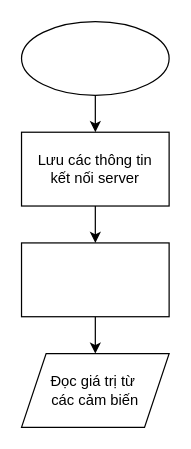
The diagram is 191 pixels wide and 449 high, and some of its shapes have lost their labels. Here are the shapes that lost their labels. From the top down, the centre of each, then its label:
At point 94,57: "Begin".
At point 94,279: "Gán vị trí chân vào các cảm biến và LCD".
